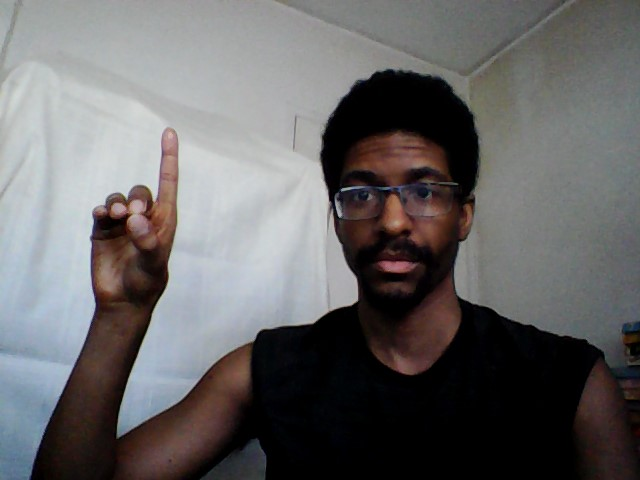d: (83, 123, 185, 313)
